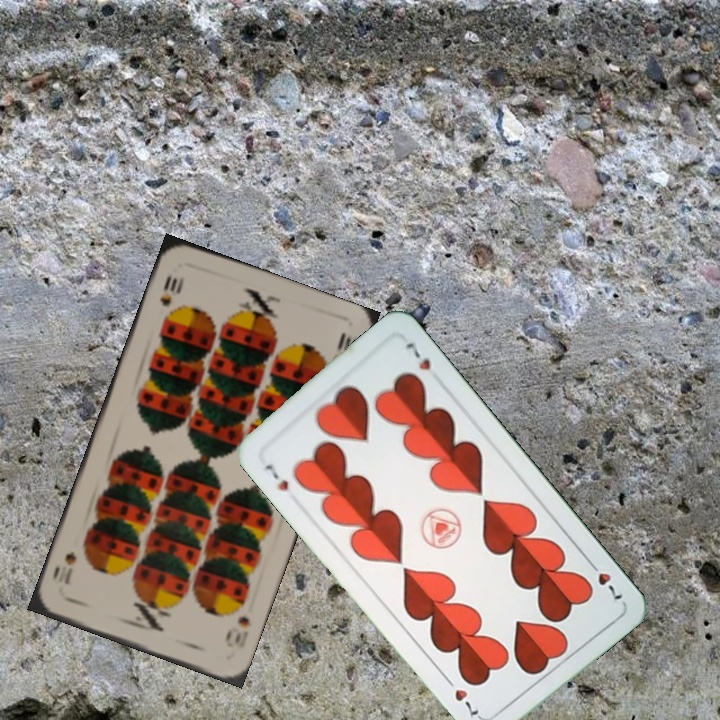H7: (583, 556, 625, 603), (260, 459, 292, 494)
S10: (221, 612, 254, 651), (155, 271, 186, 309)
